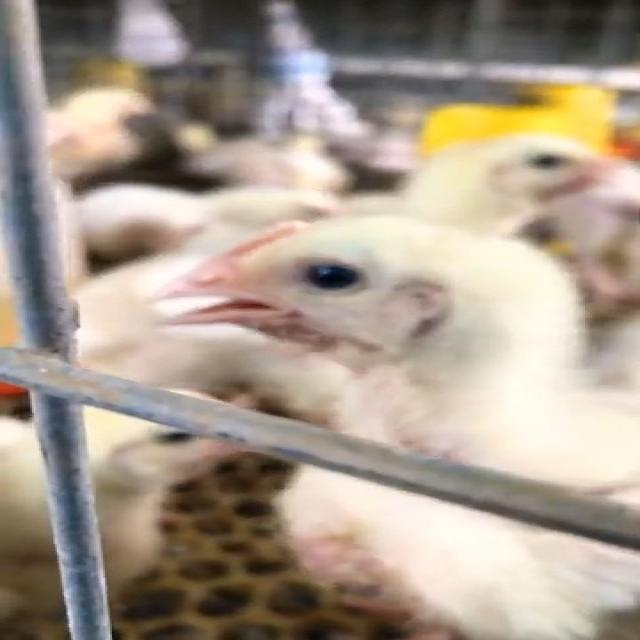Breathing: (132, 213, 636, 640)
